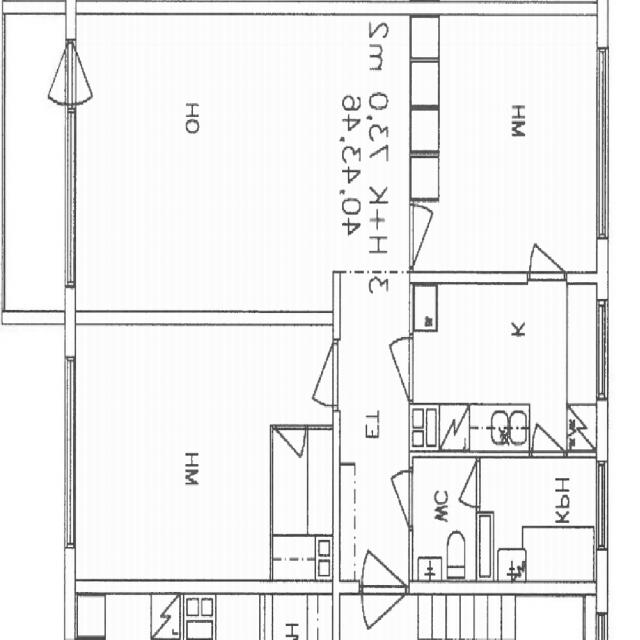door: (363, 513, 406, 595), (64, 43, 114, 103), (26, 43, 75, 103), (409, 204, 453, 266), (294, 343, 338, 405), (371, 339, 413, 400), (529, 216, 565, 282), (376, 473, 413, 525), (532, 401, 564, 458), (447, 460, 481, 506), (276, 424, 306, 476)
